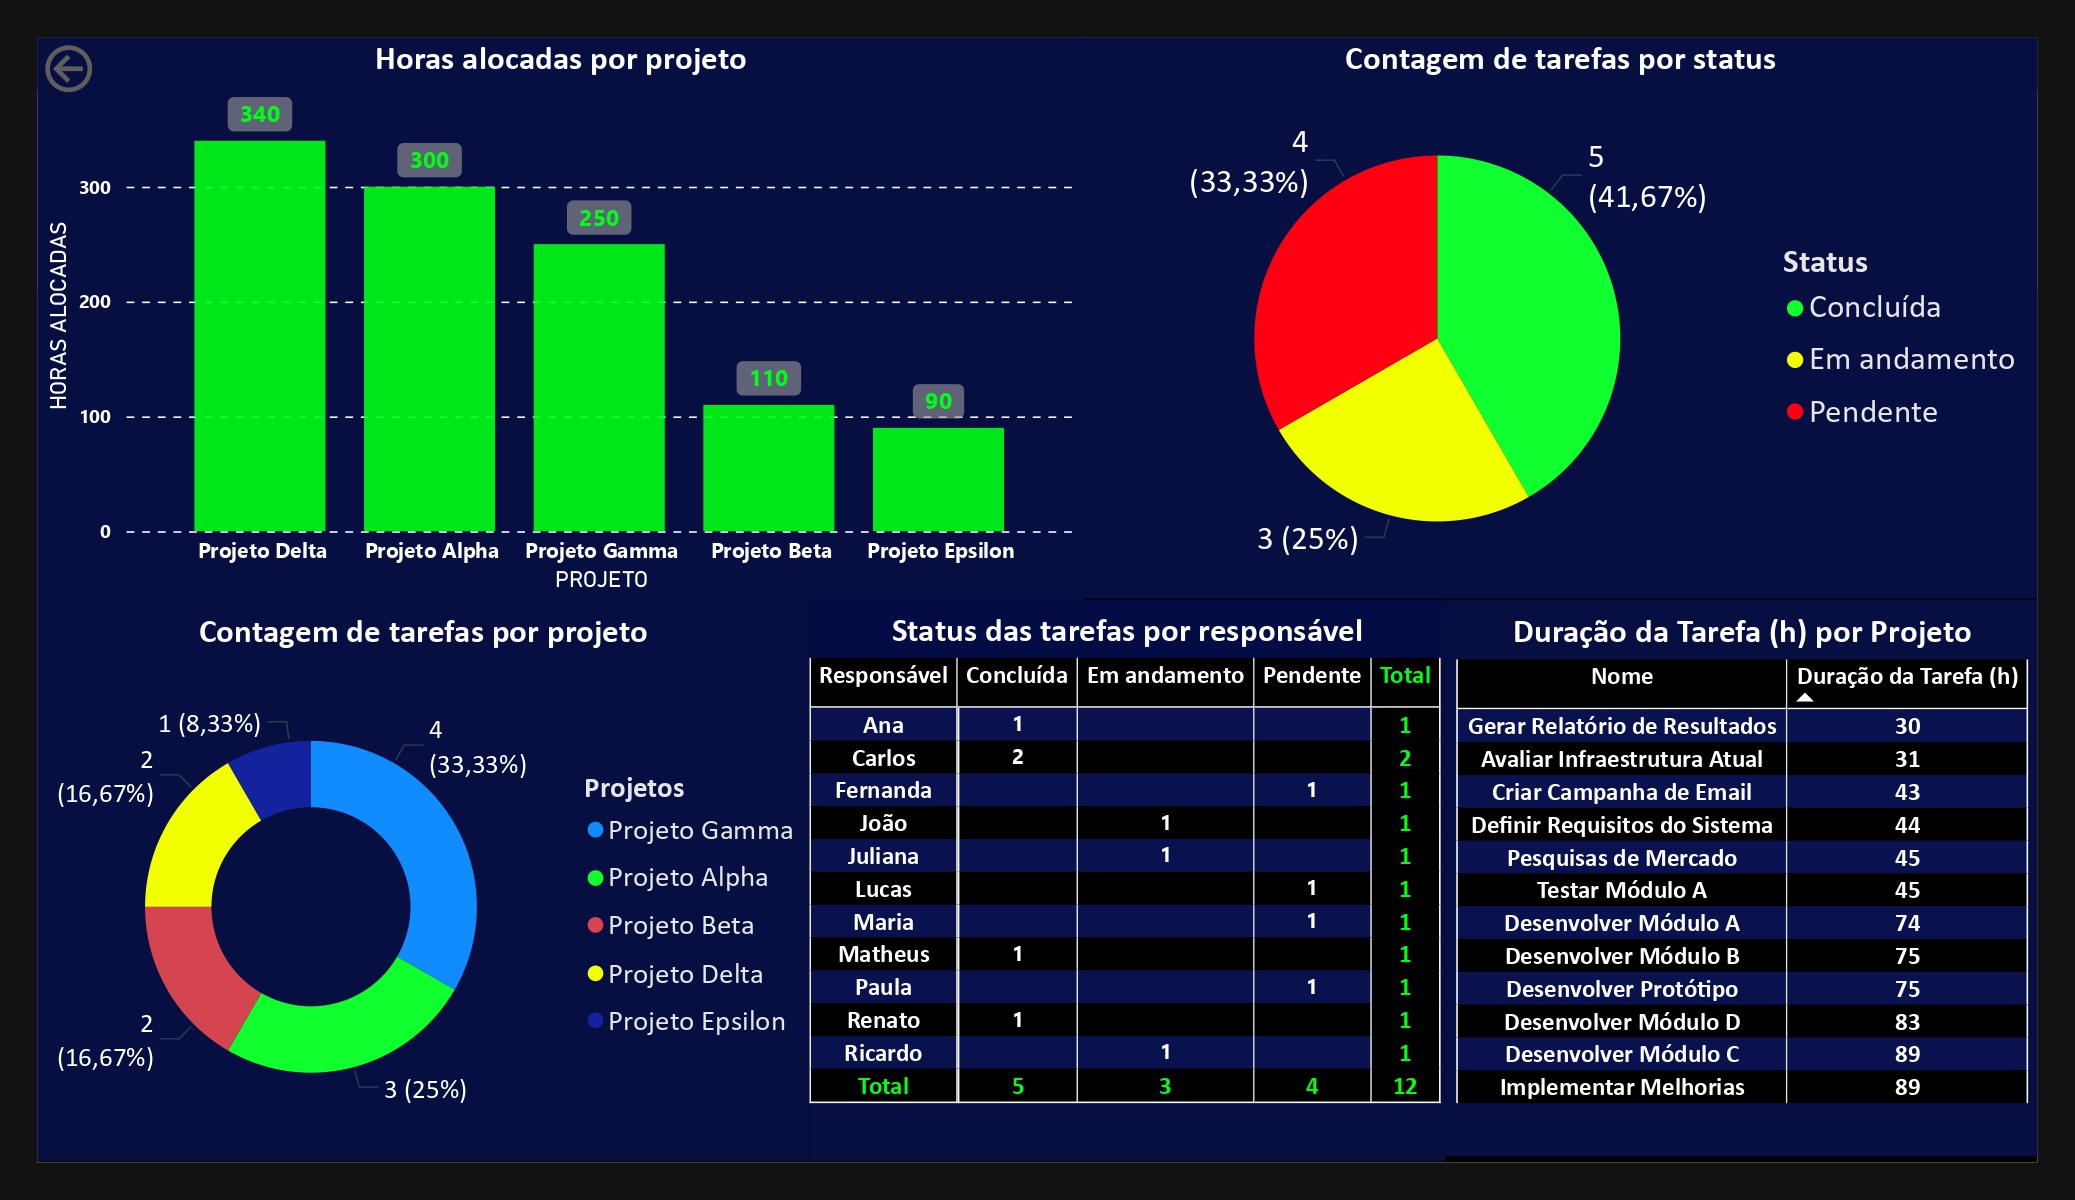

This screenshot's page, from the dashboard's own definition file:
{"tool":"powerbi","page":{"name":"Página 1","canvas":[1280,720],"ordinal":0},"visuals":[{"type":"pieChart","title":"Contagem de tarefas por status","fields":{"Category":["monitoramento_projetos tarefas.status"],"Y":["monitoramento_projetos tarefas.id"]},"box":[670.3,0,609.7,359.2],"z":0},{"type":"columnChart","title":"Horas alocadas por projeto","fields":{"Category":["monitoramento_projetos projetos.nome"],"Y":["monitoramento_projetos recursos.horas_alocadas"]},"box":[0,0,670.1,359.7],"z":1000},{"type":"actionButton","box":[0,0,100,40],"z":2000},{"type":"pivotTable","title":"Status das tarefas por responsável","fields":{"Rows":["monitoramento_projetos tarefas.responsavel"],"Columns":["monitoramento_projetos tarefas.status"],"Values":["monitoramento_projetos tarefas.id"]},"box":[494,359.7,407.5,359.7],"z":3000},{"type":"donutChart","title":"Contagem de tarefas por projeto","fields":{"Category":["monitoramento_projetos projetos.nome"],"Y":["monitoramento_projetos tarefas.id"]},"box":[0,359.7,494,359.7],"z":4000},{"type":"tableEx","title":"Duração da Tarefa (h)","fields":{"Values":["monitoramento_projetos tarefas.Nome","monitoramento_projetos tarefas.Duração_Tarefa"]},"box":[901,359.7,379,356.7],"z":5000}]}

Visuals, with their boxes on the page's 1280x720 design canvas (x1, y1, x2, y2). These are canvas units, not pixel positions in the 2075x1200 screenshot, which may show the page scaled, cropped or inside an application window:
"Contagem de tarefas por status" pieChart: (x1=670, y1=0, x2=1280, y2=359)
"Horas alocadas por projeto" columnChart: (x1=0, y1=0, x2=670, y2=360)
actionButton: (x1=0, y1=0, x2=100, y2=40)
"Status das tarefas por responsável" pivotTable: (x1=494, y1=360, x2=902, y2=719)
"Contagem de tarefas por projeto" donutChart: (x1=0, y1=360, x2=494, y2=719)
"Duração da Tarefa (h)" tableEx: (x1=901, y1=360, x2=1280, y2=716)
